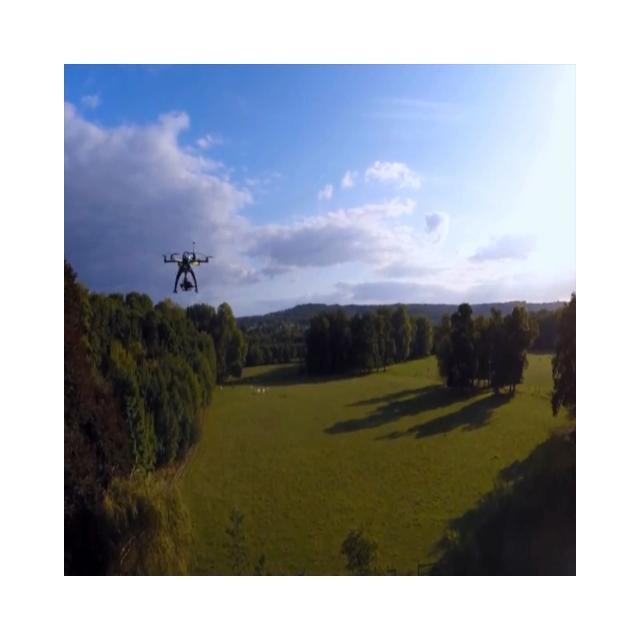drone: (162, 240, 214, 293)
